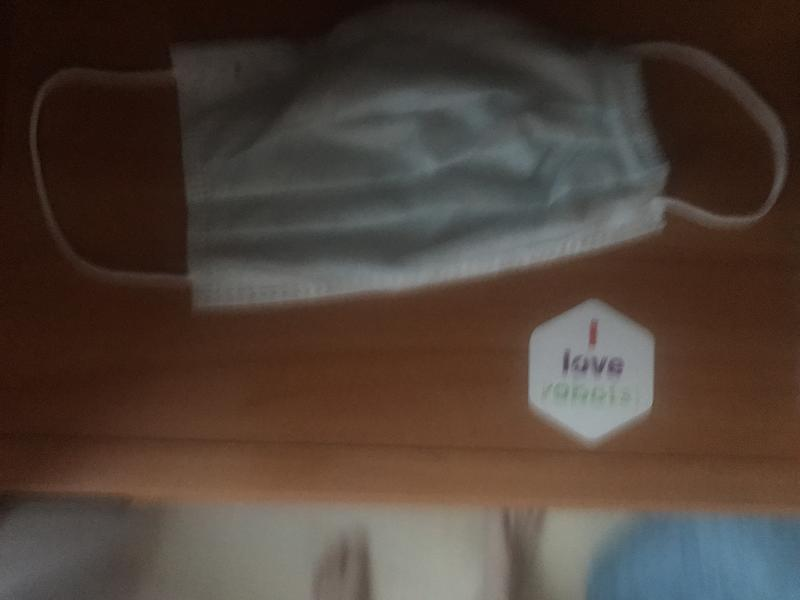medical_mask: (32, 21, 785, 305)
